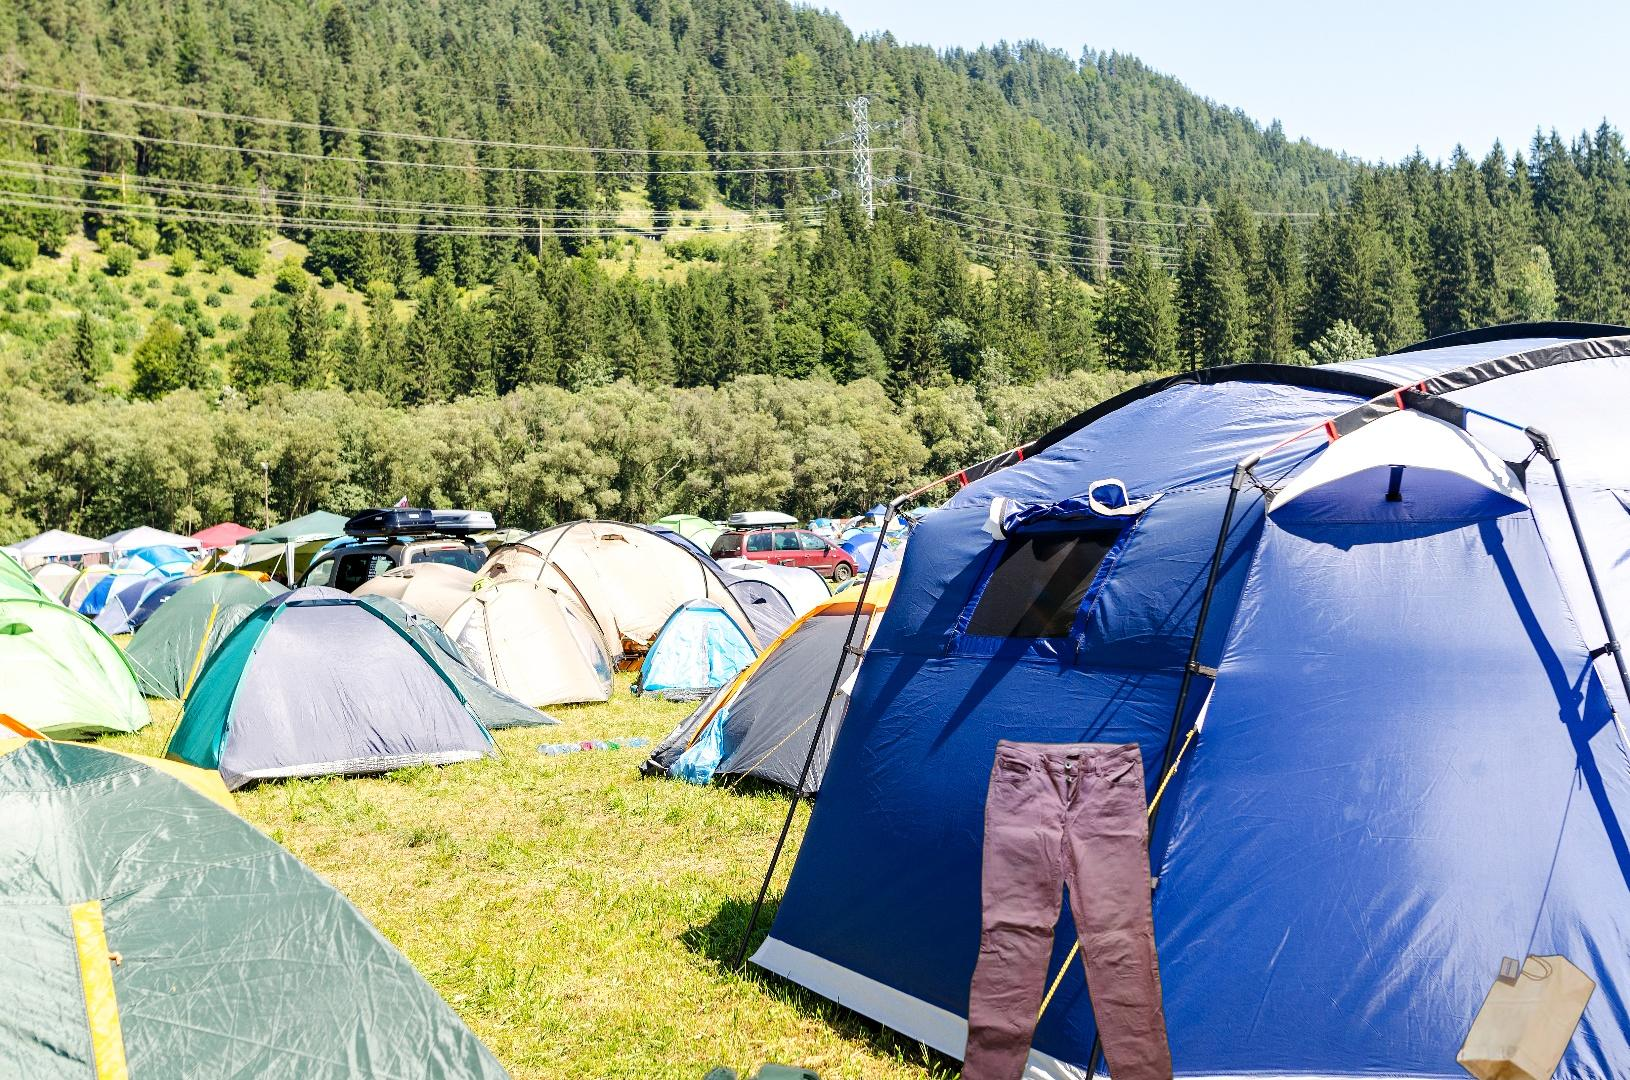clothes: (955, 734, 1178, 1080)
paper-bag: (1450, 928, 1599, 1080)
shoes: (701, 1057, 1099, 1080)
